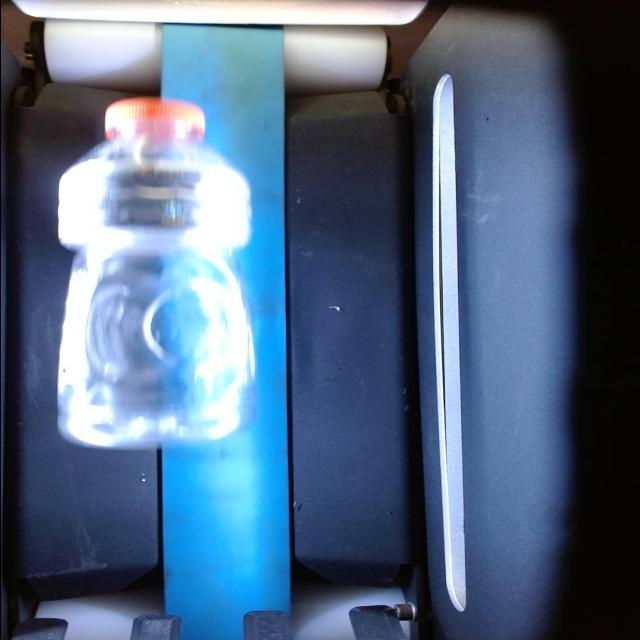bottom: (52, 395, 274, 456)
cap: (104, 93, 218, 150)
